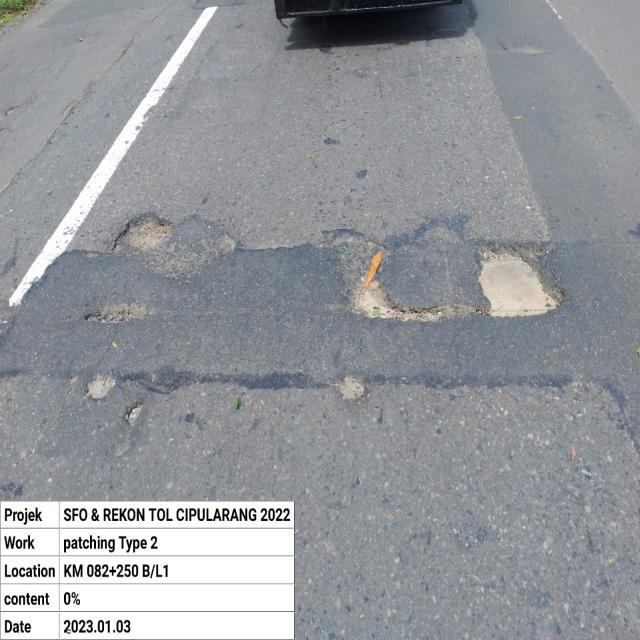Buraco: (313, 222, 574, 328), (105, 208, 243, 290), (108, 396, 149, 460), (81, 297, 154, 327), (322, 370, 378, 409), (79, 368, 121, 402)
